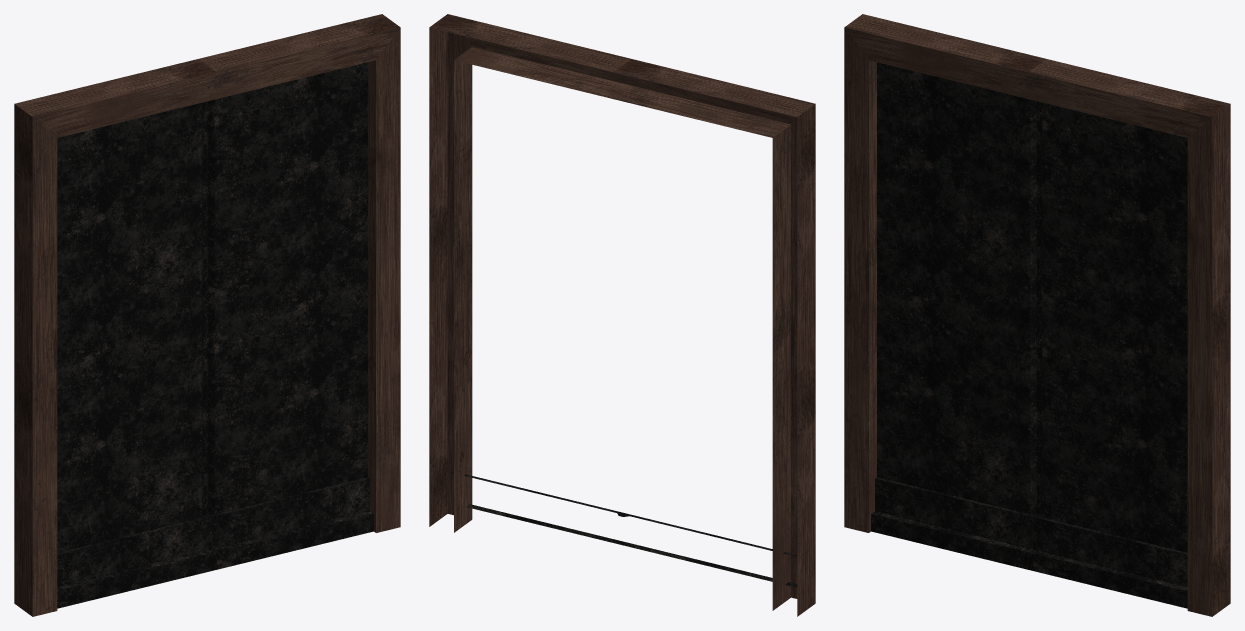
The model's file is SM_Elevator_Door.fbx.
3 renders of one model, left to right at view 1: azimuth 30°, elevation 25°; view 2: azimuth 150°, elevation 25°; view 3: azimuth 330°, elevation 25°, orthographic.
Visible parts, largest first — view 1: SM_Elevator_Door; view 2: SM_Elevator_Door; view 3: SM_Elevator_Door.
Part boxes in pixels (x1=…): SM_Elevator_Door: x1=14, y1=14, x2=400, y2=616; SM_Elevator_Door: x1=429, y1=14, x2=815, y2=616; SM_Elevator_Door: x1=844, y1=14, x2=1230, y2=616.
Size of the model in its own units: 201 by 261 by 17.37.
